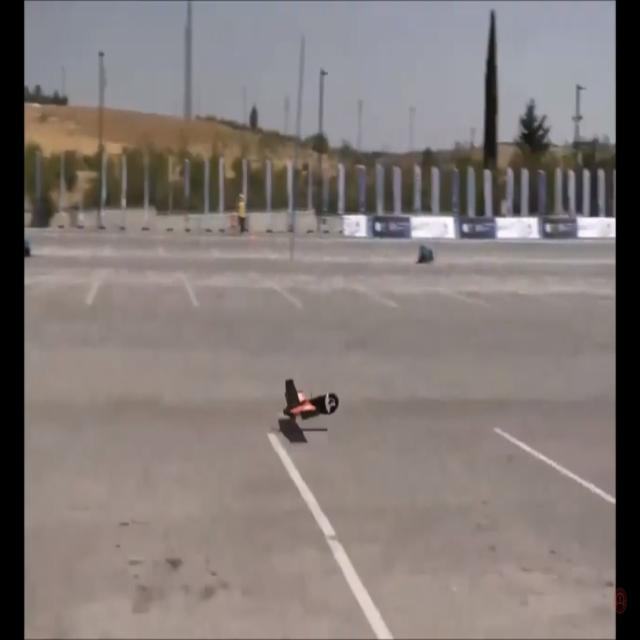iha: (283, 376, 340, 421)
